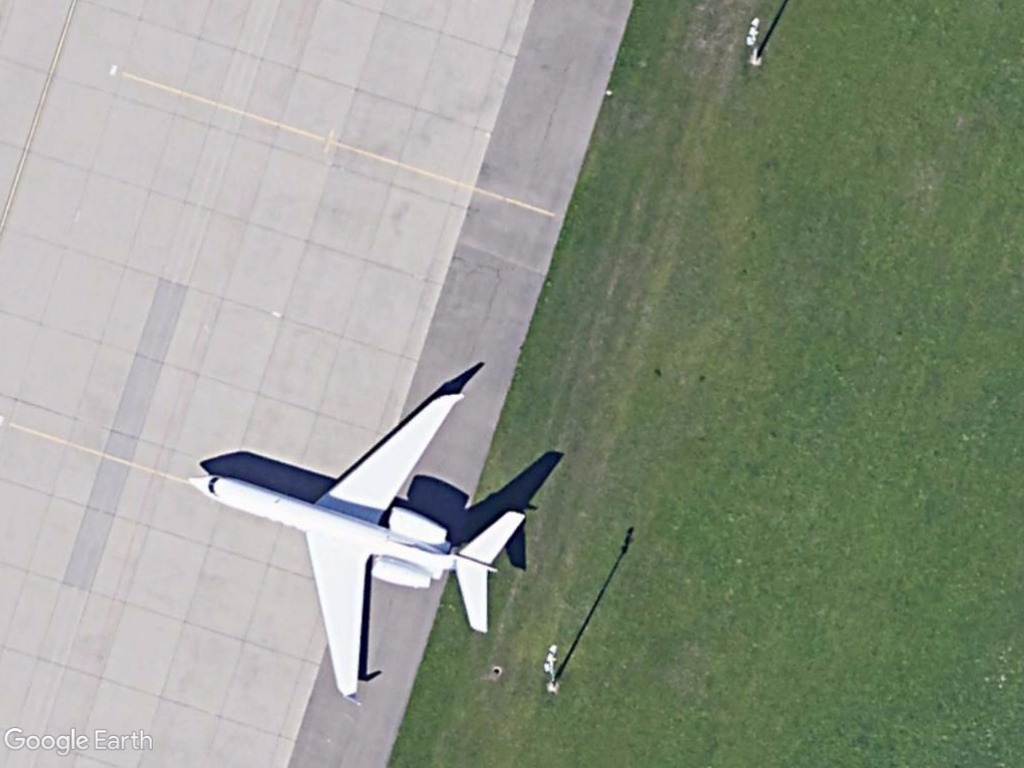chartered: (180, 384, 526, 705)
